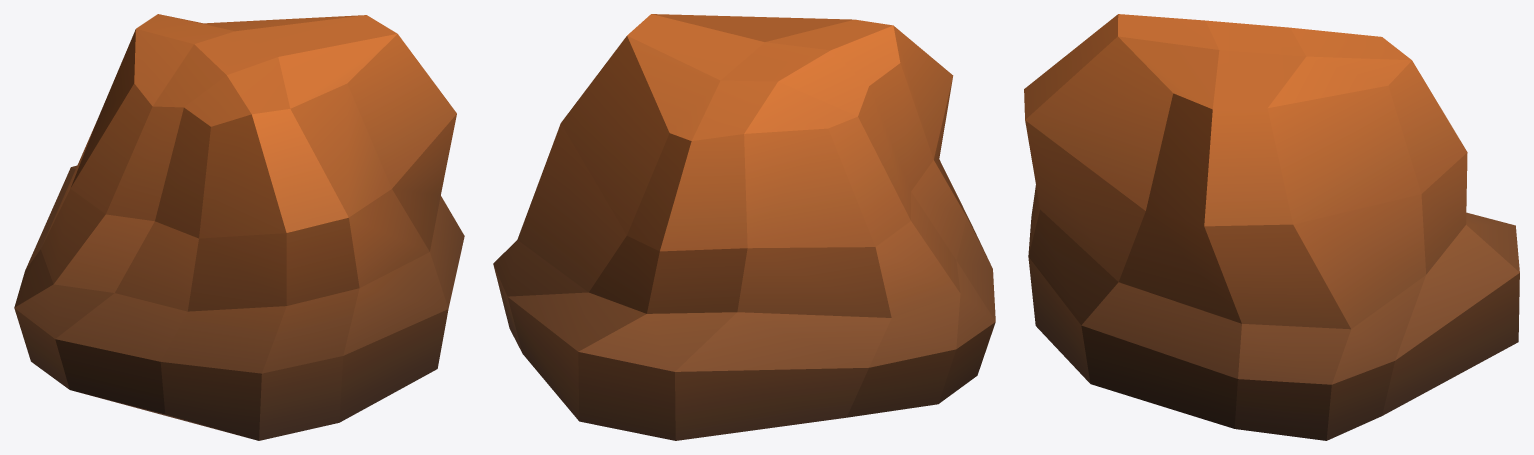
Rendered from Water_Rock2.fbx.
3 renders of one model, left to right at view 1: azimuth 30°, elevation 25°; view 2: azimuth 150°, elevation 25°; view 3: azimuth 270°, elevation 25°, orthographic.
Visible parts, largest first — view 1: Rock_2; view 2: Rock_2; view 3: Rock_2.
Part boxes in pixels (x1,y1,x2,y2): Rock_2: (14, 14, 464, 440); Rock_2: (493, 14, 995, 440); Rock_2: (1024, 14, 1519, 440).
Bounding box in the file's own units: 204 × 131 × 199.
Materials: 1 (1 with a texture image).
